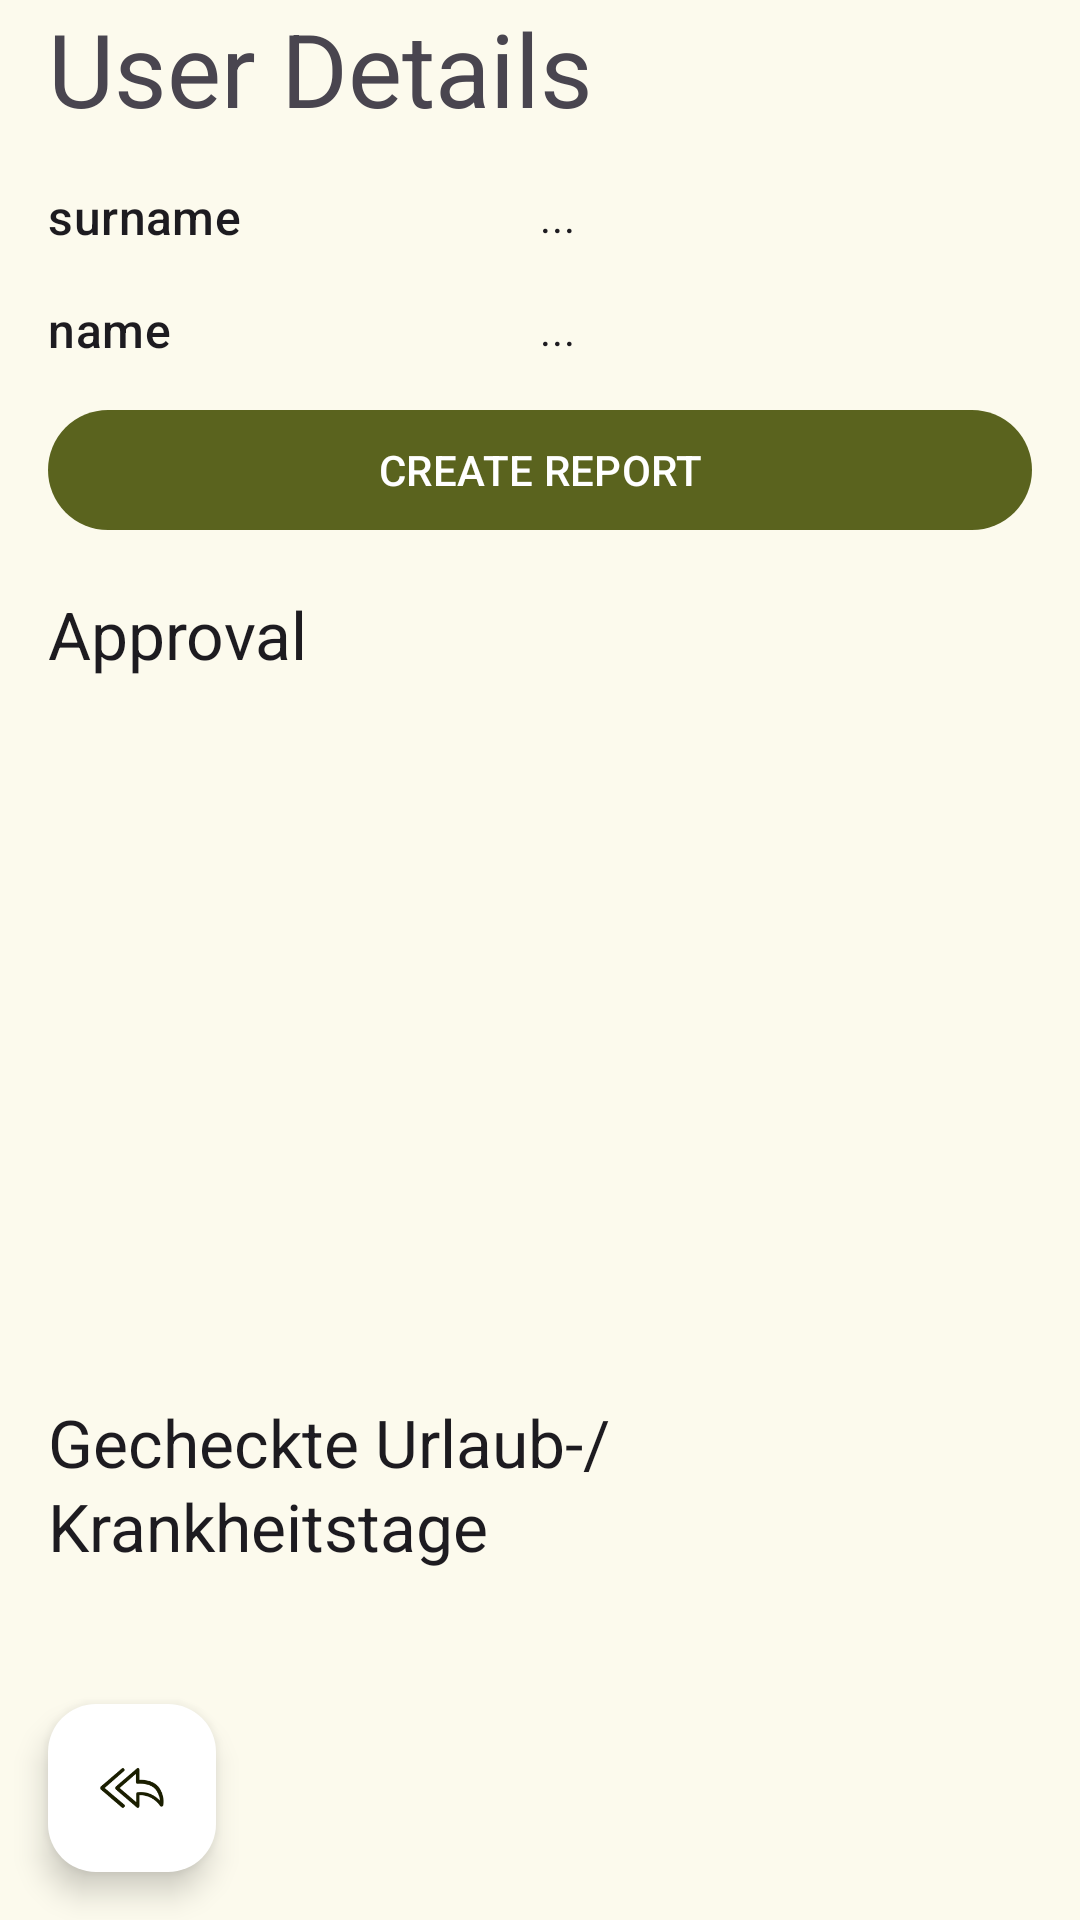

Icon click points for this 1080×1920 phone screenshot, format [x,y]:
Back: [132,1788]
